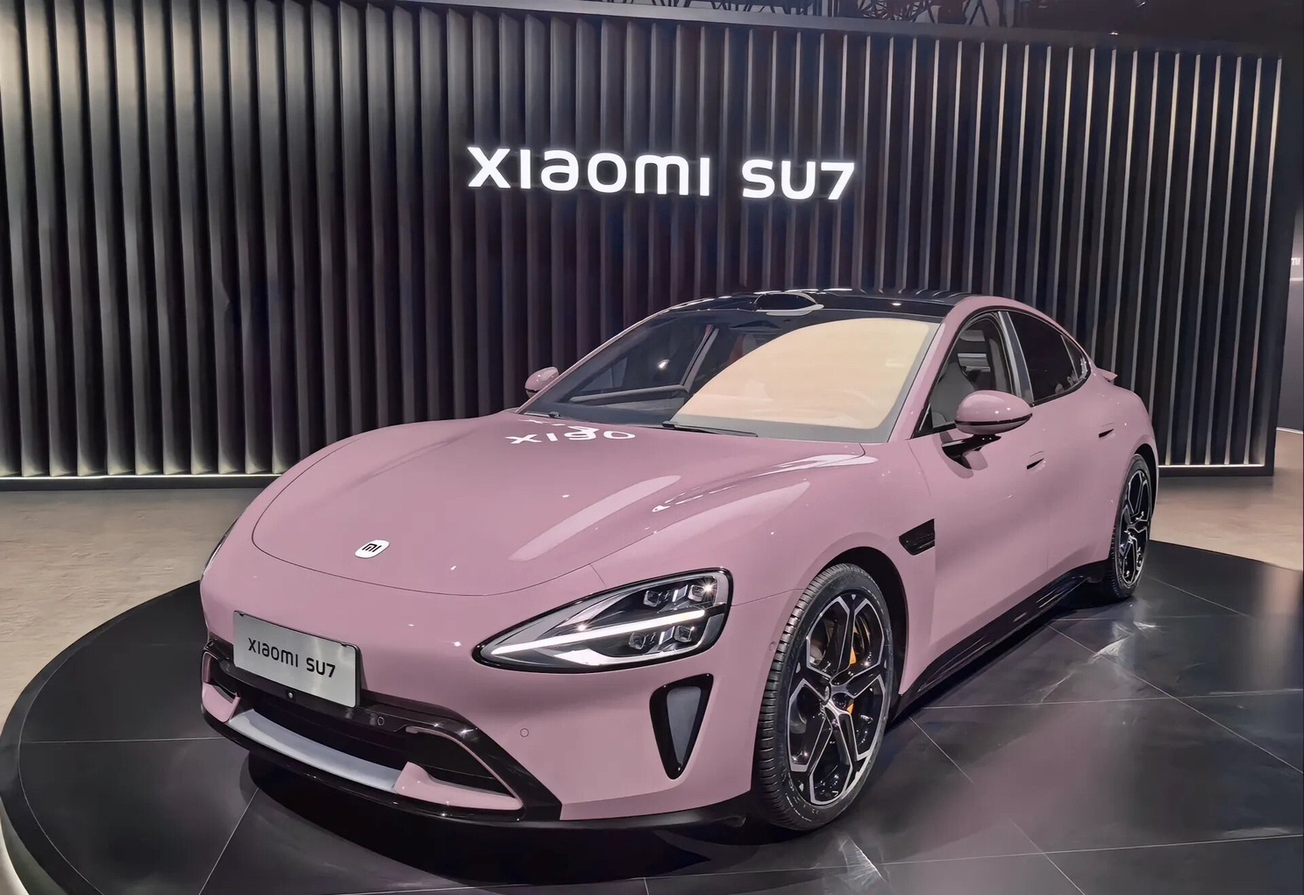su7: (207, 277, 1165, 833)
